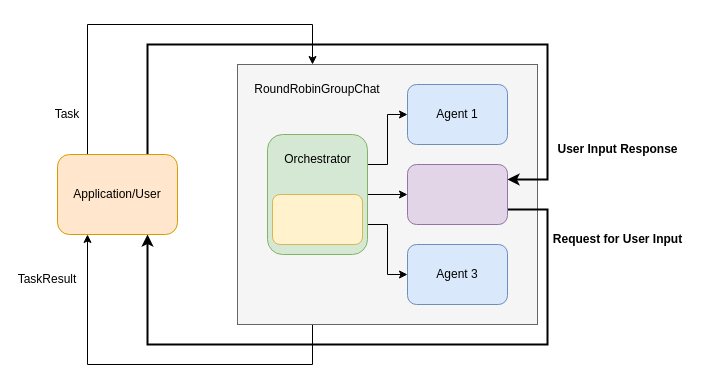
Image size: 704x390. Some labels were removed from this diagram. Each missing label, with the box of its shape:
Termination Condition: (272, 194, 362, 244)
UserProxyAgent: (406, 164, 508, 224)
